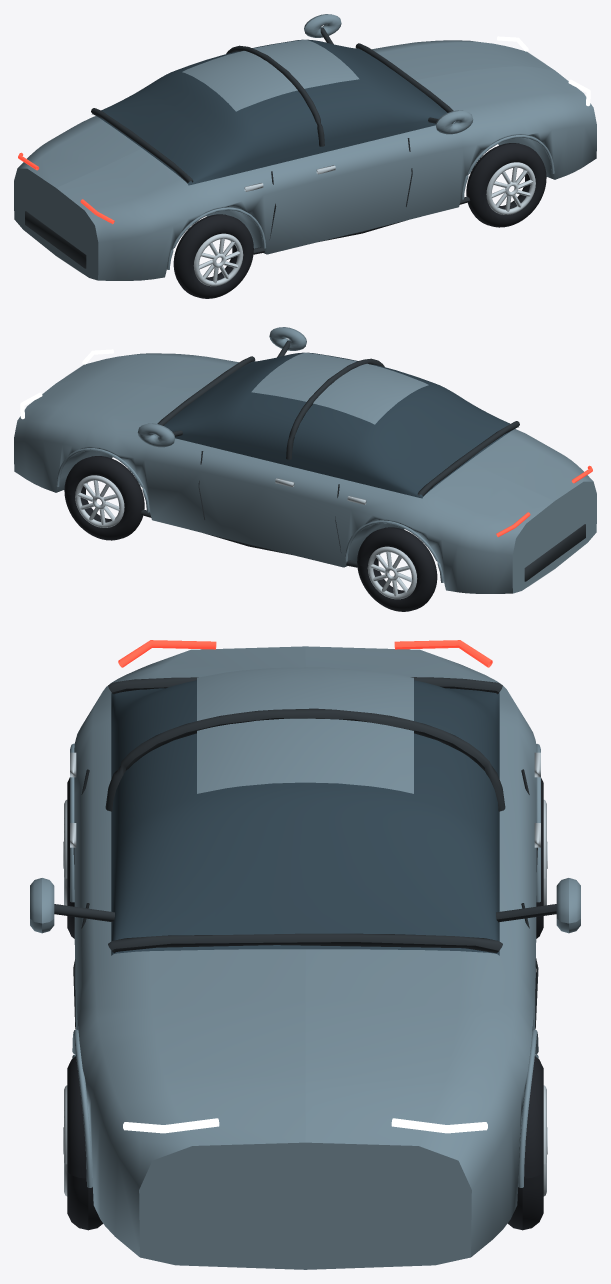
Rendered from car_sedan.glb.
The picture shows the model from 3 angles, top to bottom: view 1: azimuth 30°, elevation 25°; view 2: azimuth 150°, elevation 25°; view 3: azimuth 270°, elevation 25°; orthographic projection. The views are drawn at different scales.
Visible parts, largest first — view 1: body_paint_batch_0, smoked_glass_batch_0, carbon_trim_batch_0, rubber_batch_4, rubber_batch_2, brushed_alloy_batch_2, brushed_alloy_batch_4; view 2: body_paint_batch_0, smoked_glass_batch_0, carbon_trim_batch_0, rubber_batch_3, rubber_batch_1, brushed_alloy_batch_1, brushed_alloy_batch_3; view 3: body_paint_batch_0, smoked_glass_batch_0, carbon_trim_batch_0, rubber_batch_1, rubber_batch_2, rear_led_batch_0, front_led_batch_0.
Part boxes in pixels (x1,y1,x2,y2): body_paint_batch_0: (14, 14, 596, 280); smoked_glass_batch_0: (92, 39, 447, 185); carbon_trim_batch_0: (25, 27, 470, 268); rubber_batch_4: (173, 214, 253, 298); rubber_batch_2: (466, 143, 546, 227); brushed_alloy_batch_2: (486, 162, 535, 214); brushed_alloy_batch_4: (193, 233, 243, 286); body_paint_batch_0: (14, 327, 596, 593); smoked_glass_batch_0: (164, 352, 518, 498); carbon_trim_batch_0: (140, 340, 585, 581); rubber_batch_3: (357, 527, 437, 611); rubber_batch_1: (64, 456, 144, 540); brushed_alloy_batch_1: (75, 475, 124, 527); brushed_alloy_batch_3: (367, 546, 417, 599); body_paint_batch_0: (30, 646, 580, 1269); smoked_glass_batch_0: (111, 680, 499, 955); carbon_trim_batch_0: (54, 677, 556, 1028); rubber_batch_1: (507, 1056, 543, 1230); rubber_batch_2: (67, 1056, 102, 1230); rear_led_batch_0: (118, 640, 492, 667); front_led_batch_0: (123, 1118, 487, 1133).
Size of the model in its own units: 4.65 by 1.5 by 2.22.
